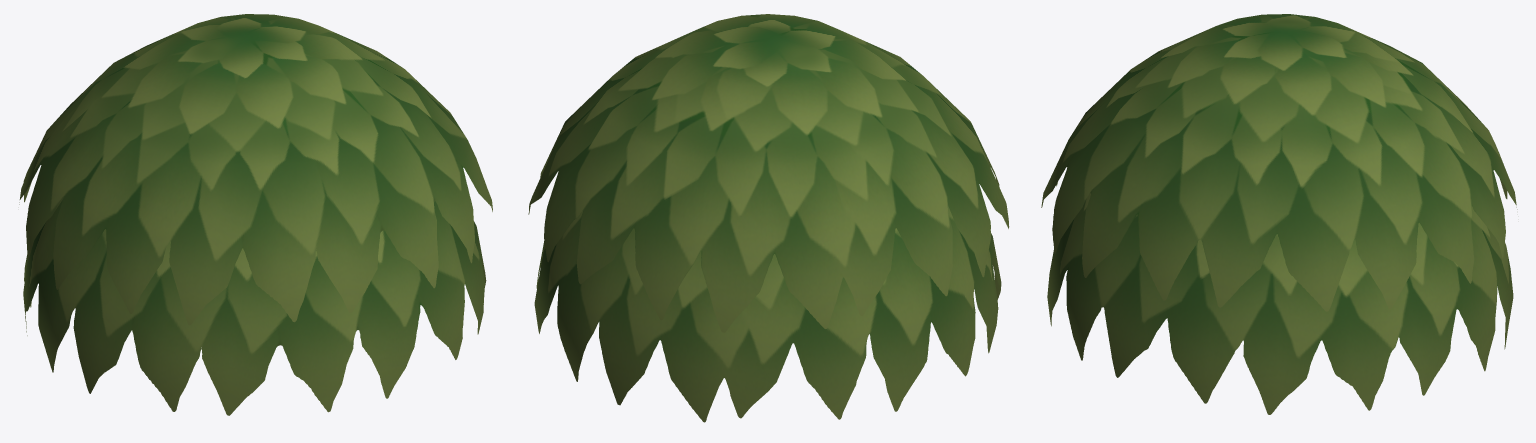
Rendered from Bush.FBX.
The picture shows the model from 3 angles, left to right: view 1: azimuth 30°, elevation 25°; view 2: azimuth 150°, elevation 25°; view 3: azimuth 270°, elevation 25°; orthographic projection.
Parts seen in each view (by area): view 1: SM_Bush; view 2: SM_Bush; view 3: SM_Bush.
Part boxes in pixels (left/top/right/bottom): SM_Bush: left=19, top=14, right=492, bottom=415; SM_Bush: left=528, top=14, right=1009, bottom=422; SM_Bush: left=1041, top=14, right=1517, bottom=414.
Size of the model in its own units: 26.4 by 17.97 by 26.4.
